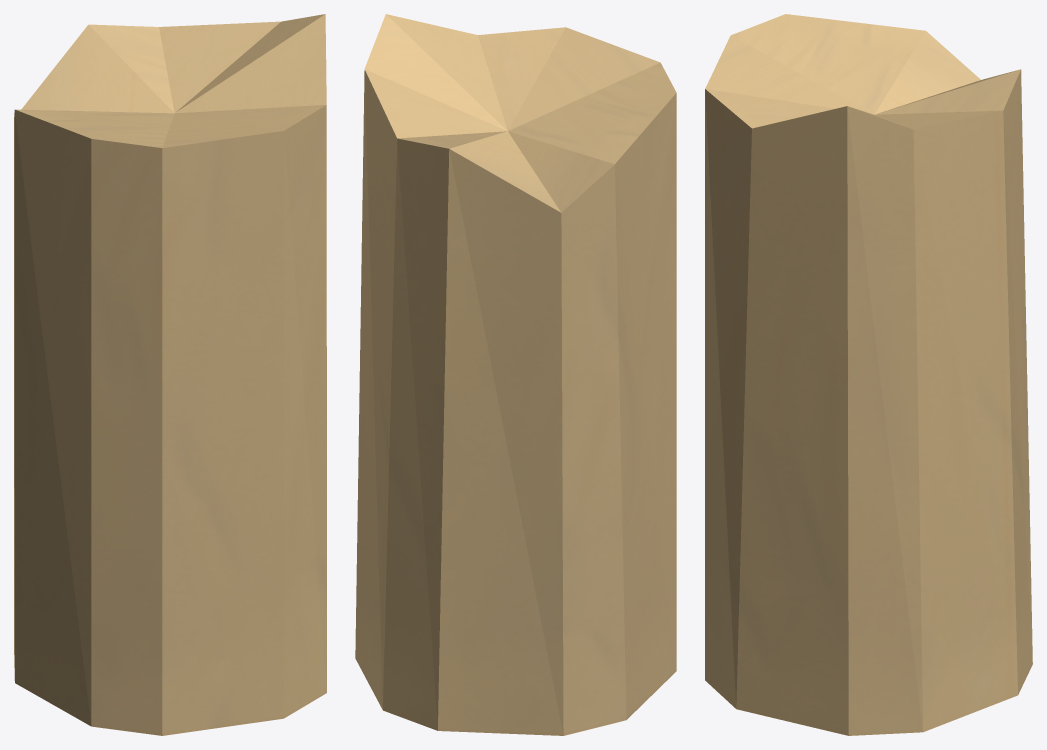
The model's file is ColumnF.FBX.
3 renders of one model, left to right at view 1: azimuth 30°, elevation 25°; view 2: azimuth 150°, elevation 25°; view 3: azimuth 270°, elevation 25°, orthographic. The views are drawn at different scales.
Visible parts, largest first — view 1: ColumnF; view 2: ColumnF; view 3: ColumnF.
Part boxes in pixels (bbox=[...]): ColumnF: bbox=[14, 14, 326, 735]; ColumnF: bbox=[355, 14, 676, 735]; ColumnF: bbox=[705, 14, 1032, 735].
Size of the model in its own units: 8.11 by 8.22 by 17.42.
Materials: 1 (1 with a texture image).
